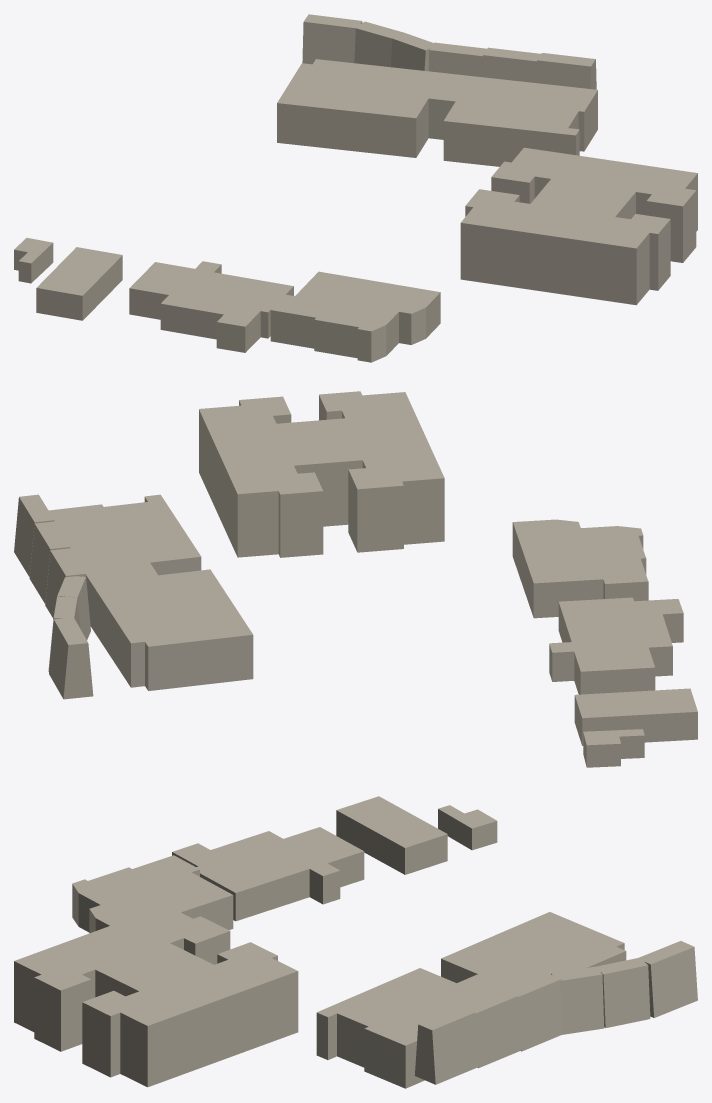
File: bormla_62_31_far.glb
3 renders of one model, top to bottom at view 1: azimuth 30°, elevation 25°; view 2: azimuth 150°, elevation 25°; view 3: azimuth 270°, elevation 25°, orthographic. The views are drawn at different scales.
Parts seen in each view (by area): view 1: geometry_0; view 2: geometry_0; view 3: geometry_0.
Part boxes in pixels (<box>): geometry_0: <box>14,14,697,362</box>; geometry_0: <box>14,391,697,767</box>; geometry_0: <box>14,796,697,1088</box>.
Bounding box in the file's own units: 147 × 22.37 × 138.
